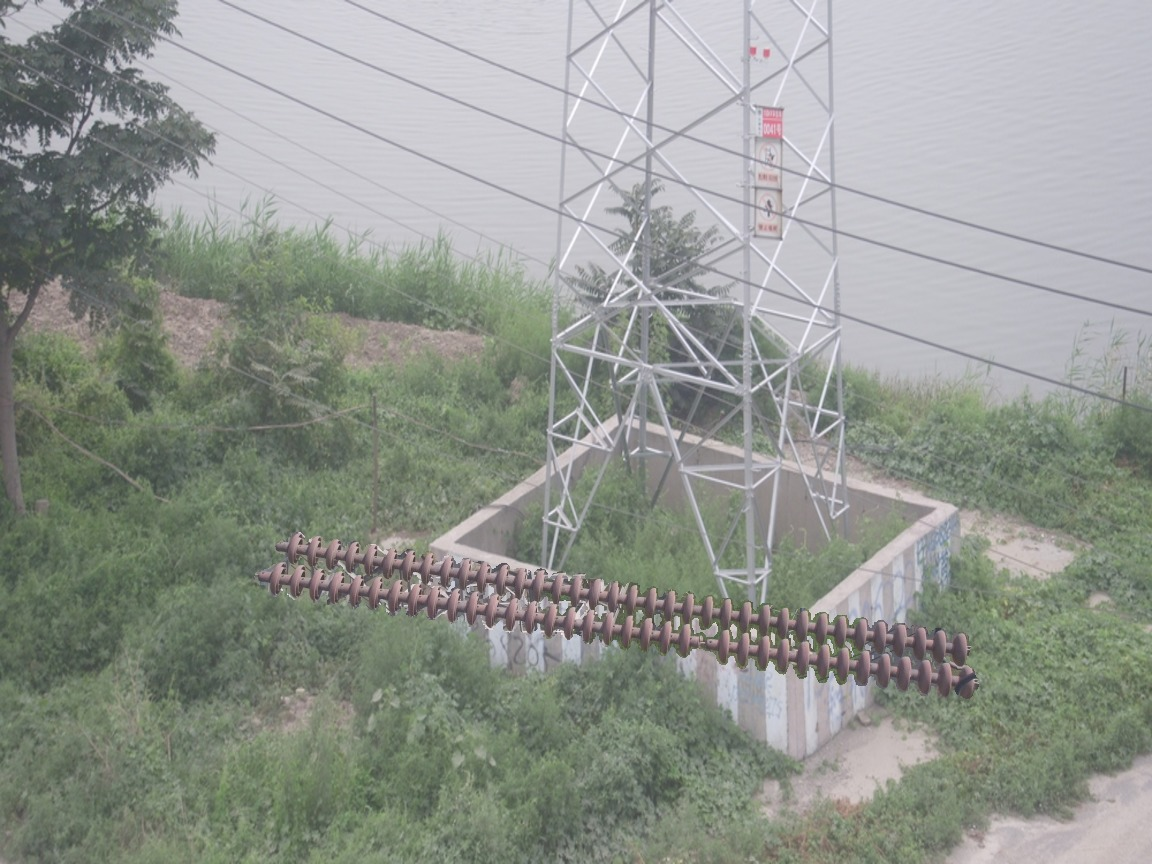defect: (670, 619, 737, 670)
